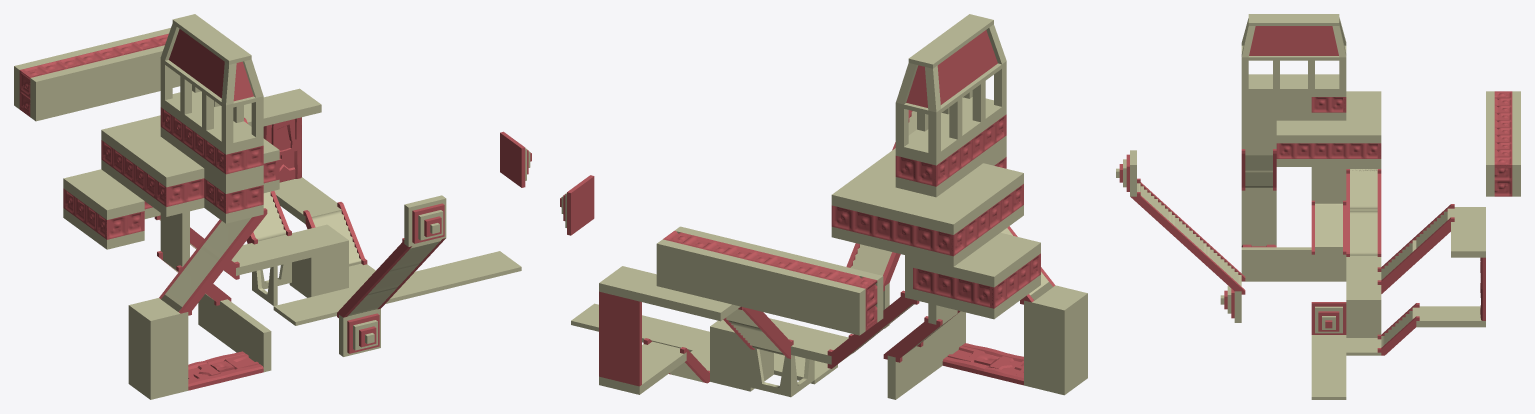
The model's file is relativity_env.fbx.
The picture shows the model from 3 angles, left to right: view 1: azimuth 30°, elevation 25°; view 2: azimuth 150°, elevation 25°; view 3: azimuth 270°, elevation 25°; orthographic projection. The views are drawn at different scales.
Parts seen in each view (by area): view 1: relativity_env; view 2: relativity_env; view 3: relativity_env.
Part boxes in pixels (box(x1,y1,x2,y2)): relativity_env: box(14, 14, 531, 399); relativity_env: box(560, 14, 1087, 399); relativity_env: box(1116, 14, 1520, 399).
Size of the model in its own units: 115 by 81 by 116.
